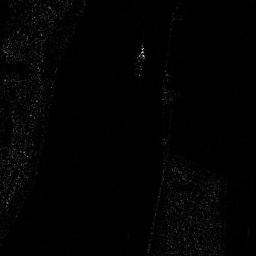ship: (136, 45, 147, 78)
